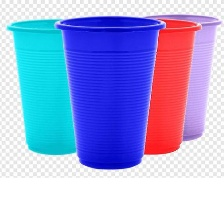glass: (51, 12, 169, 173), (4, 17, 99, 161), (136, 8, 223, 144), (126, 15, 204, 156)
